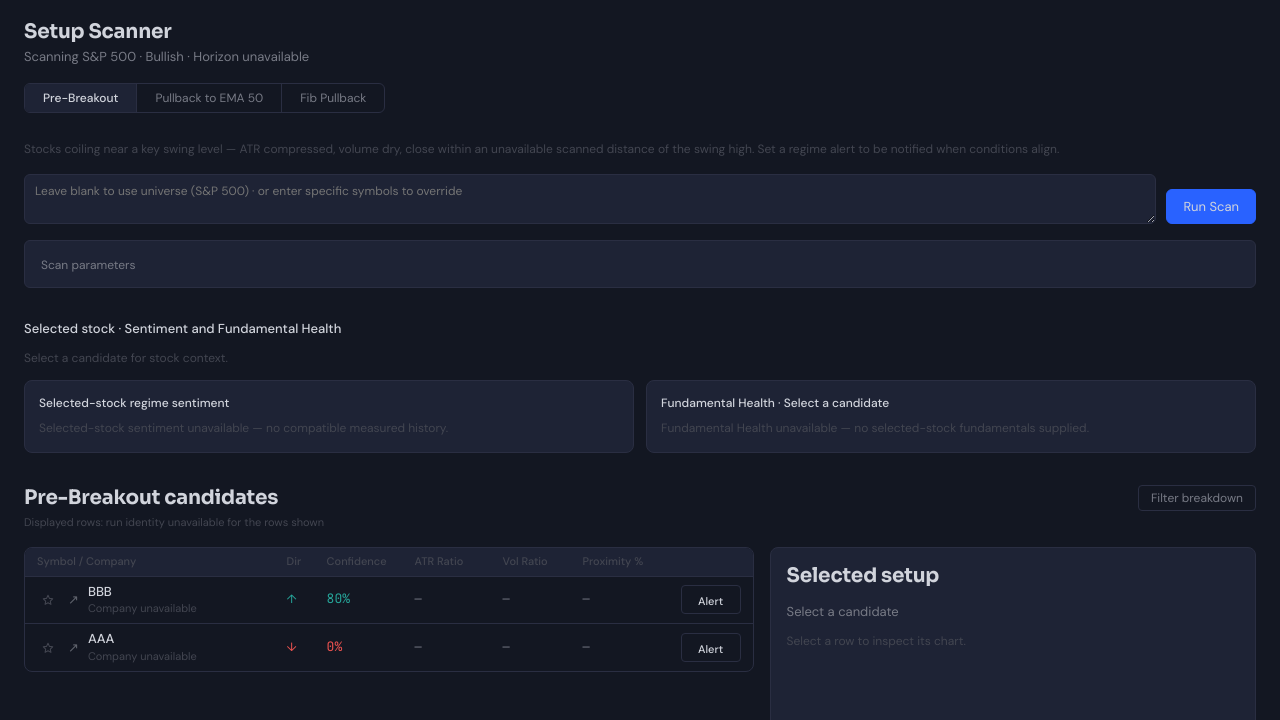
Test: mismatched response identity exposes no fields
Step 1. Click the button with aria-label "Select AAA" → [142, 656], box [25, 624, 753, 671]
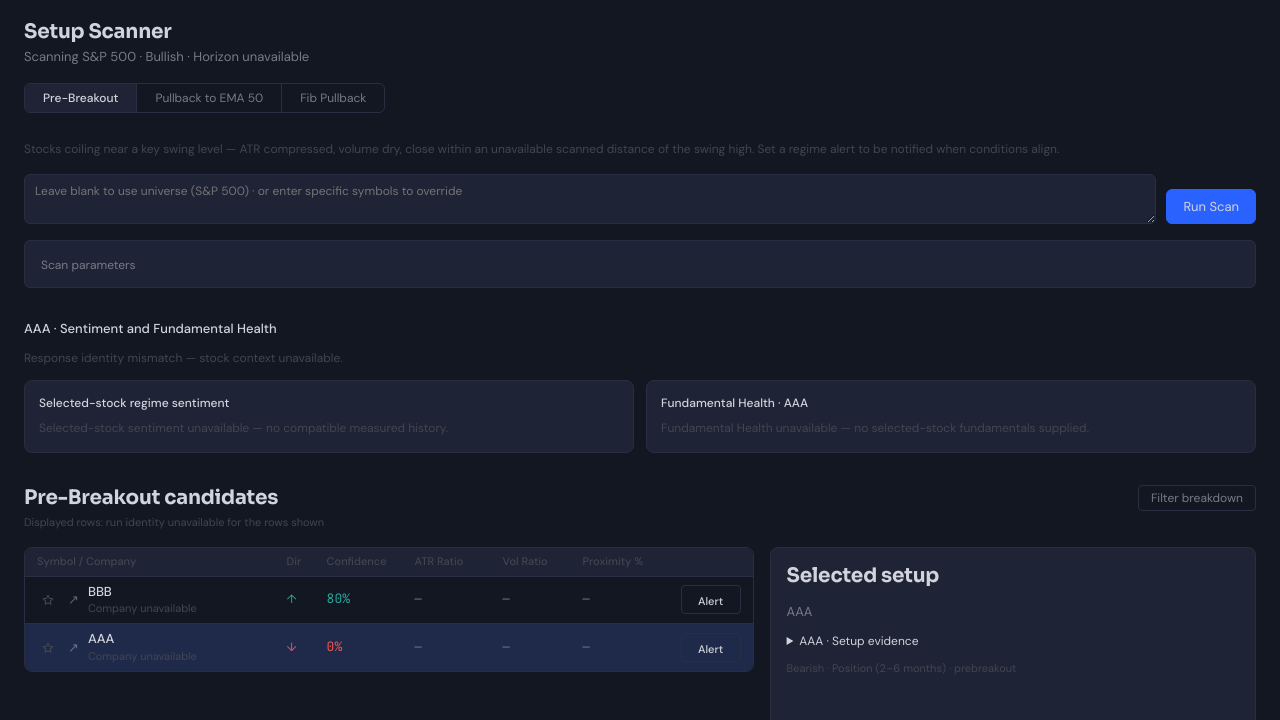
Check: the text "Response identity mismatch — stock context unavailable." is shown, box [24, 350, 343, 366]
